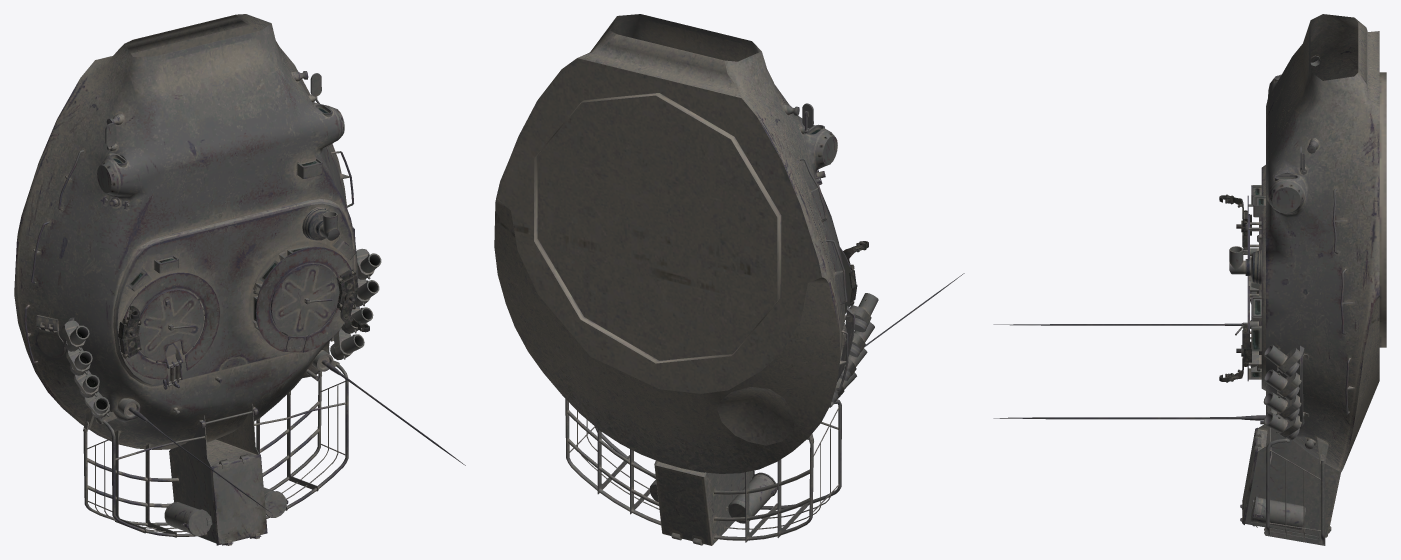
File: Turret_01.glb
3 renders of one model, left to right at view 1: azimuth 30°, elevation 25°; view 2: azimuth 150°, elevation 25°; view 3: azimuth 270°, elevation 25°, orthographic. The views are drawn at different scales.
Parts seen in each view (by area): view 1: set_0_group_0; view 2: set_0_group_0; view 3: set_0_group_0.
Boxes of the visible parts, box(x1,y1,x2,y2) form: set_0_group_0: box(14, 14, 465, 545); set_0_group_0: box(494, 14, 964, 545); set_0_group_0: box(993, 14, 1386, 545).
Size of the model in its own units: 2.71 by 3.79 by 2.81.
Materials: 1 (1 with a texture image).
